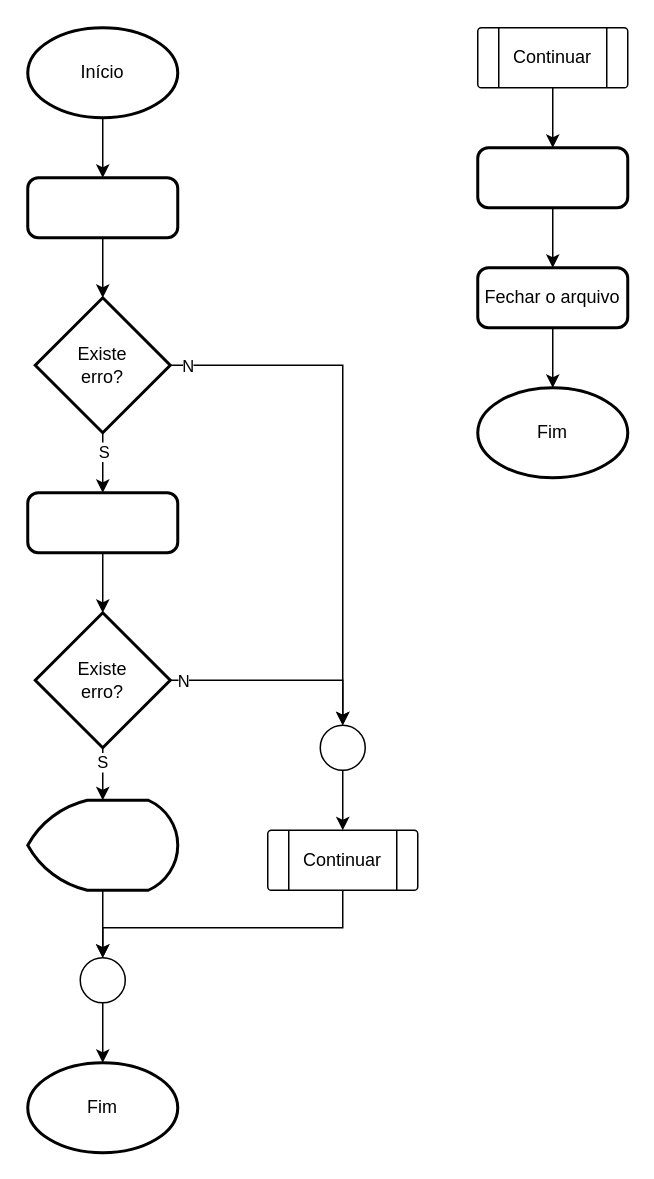
Some shapes in this 654 by 1179 pixel diagram are drawn without their labels. The centre of each missing label's shape, as x and y in pixels:
"Abrir arquivo no modo criacao" goes at point (102, 207).
"Abrir arquivo no modo gravação" goes at point (102, 522).
"Erro ao abrir o arquivo!" goes at point (102, 844).
"Gravar conteúdo no arquivo" goes at point (552, 177).
